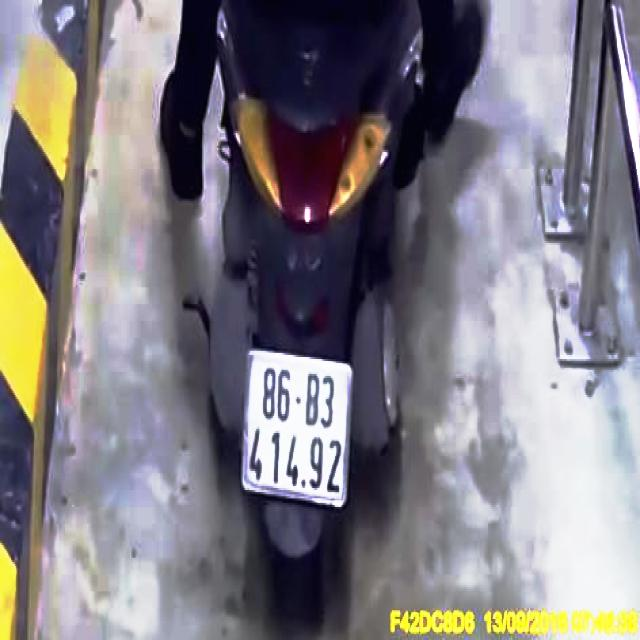license_plate: (244, 353, 355, 509)
